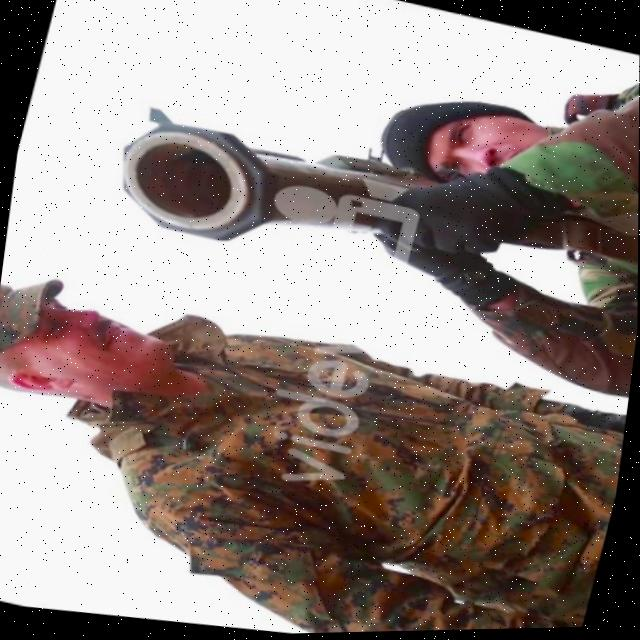rocket: (101, 95, 435, 289)
